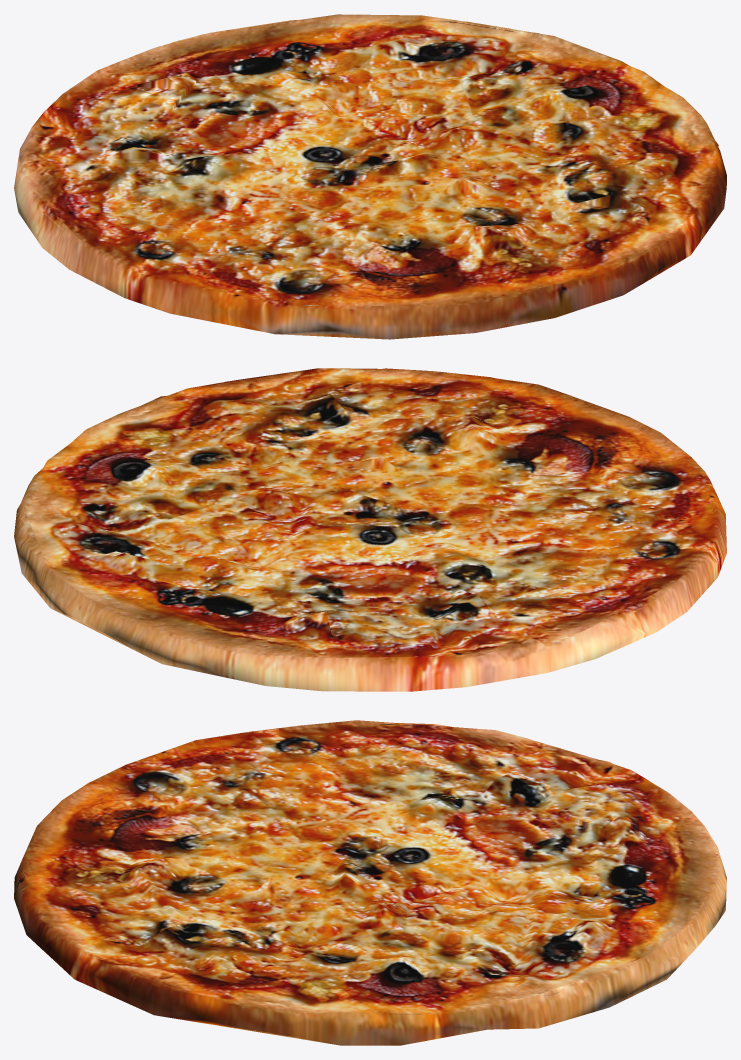
Rendered from Pizza 2.FBX.
3 renders of one model, top to bottom at view 1: azimuth 30°, elevation 25°; view 2: azimuth 150°, elevation 25°; view 3: azimuth 270°, elevation 25°, orthographic.
Visible parts, largest first — view 1: pizza 2; view 2: pizza 2; view 3: pizza 2.
Part boxes in pixels (box(x1,y1,x2,y2)): pizza 2: box(14, 14, 726, 339); pizza 2: box(14, 368, 726, 691); pizza 2: box(14, 720, 726, 1045).
Size of the model in its own units: 59.91 by 3.66 by 59.94.
Materials: 1 (1 with a texture image).
